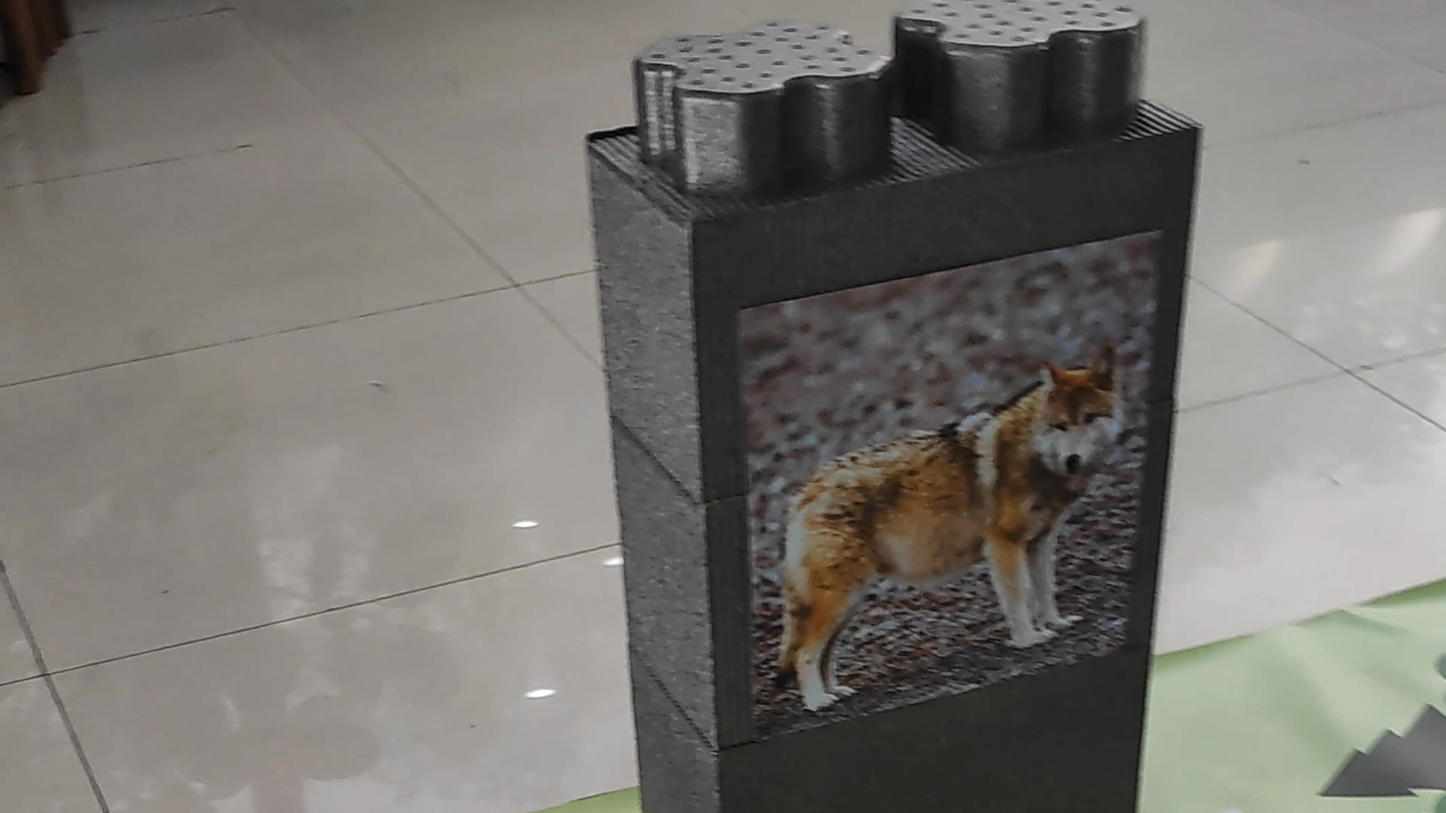wolf: (744, 344, 1127, 709)
